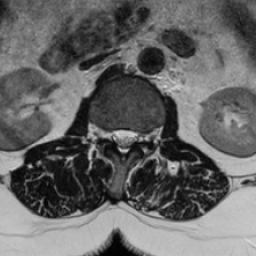CCS_normal: (119, 125, 128, 164)
LFS_stenosis: (138, 125, 149, 149)
LLS_normal: (128, 123, 137, 150)
RFS_normal: (100, 121, 110, 149)
RLS_normal: (110, 121, 119, 152)
